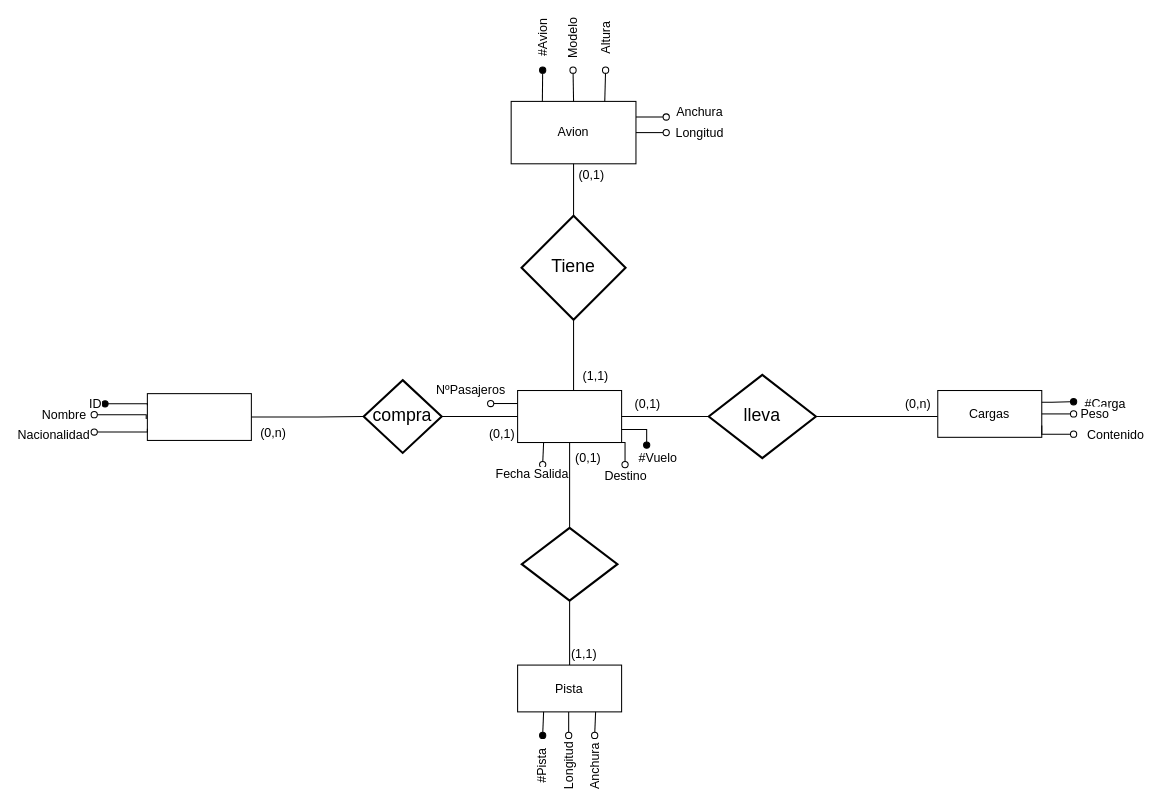
This 1163x808 diagram has some shape labels left out. Here are the shapes that lost their labels. From the top down, the centre of each, then its label:
At pixel 198 416: "Pasajero".
At pixel 569 416: "Vuelo".
At pixel 569 563: "Asigna".
